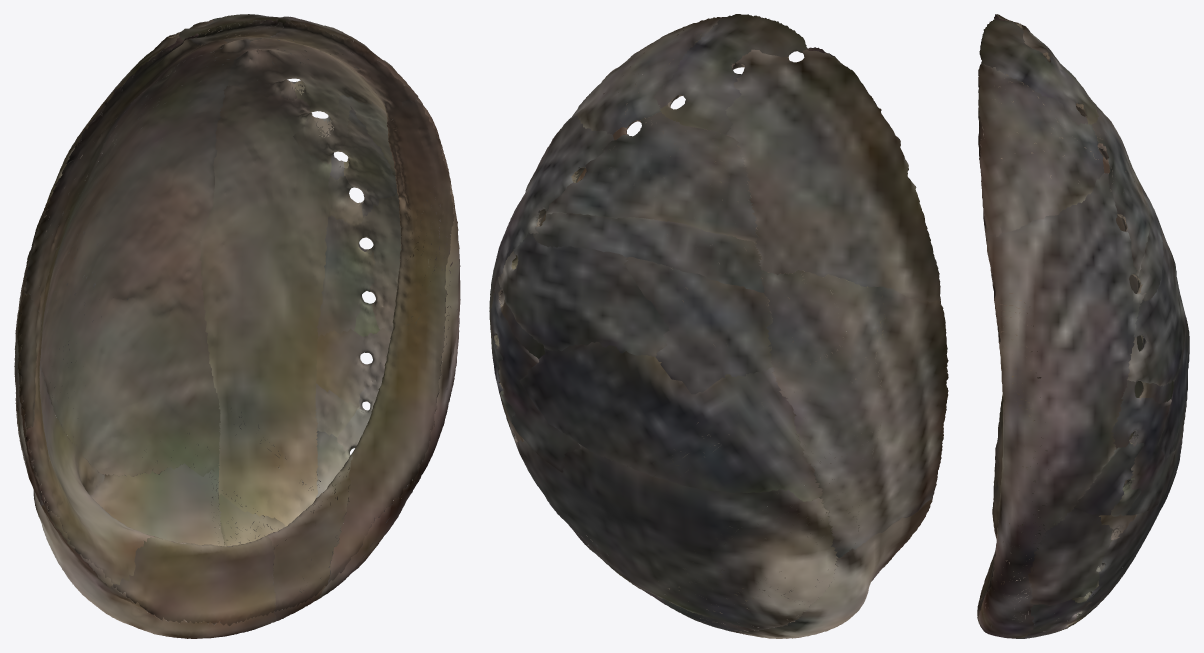
File: abalone_shell.glb
3 renders of one model, left to right at view 1: azimuth 30°, elevation 25°; view 2: azimuth 150°, elevation 25°; view 3: azimuth 270°, elevation 25°, orthographic. The views are drawn at different scales.
Parts seen in each view (by area): view 1: Object_4, Object_5, Object_3, Object_2; view 2: Object_2, Object_3, Object_4; view 3: Object_2, Object_3, Object_4, Object_5.
Part boxes in pixels (x1,y1,x2,y2): Object_4: [24, 19, 454, 611]; Object_5: [18, 22, 451, 625]; Object_3: [14, 14, 457, 638]; Object_2: [22, 16, 460, 622]; Object_2: [489, 17, 885, 631]; Object_3: [563, 14, 948, 638]; Object_4: [495, 14, 940, 622]; Object_2: [978, 65, 1189, 638]; Object_3: [978, 14, 1148, 637]; Object_4: [977, 30, 1147, 618]; Object_5: [977, 19, 1142, 619].
Bounding box in the file's own units: 1.85 × 2.44 × 0.8025.
Materials: 2 (2 with a texture image).
